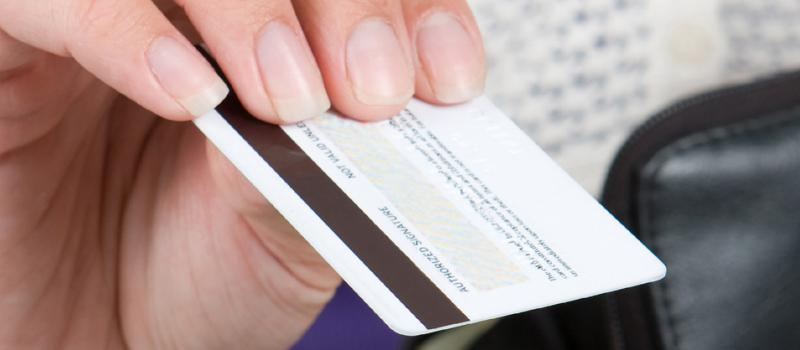tarjeta: (195, 90, 666, 337)
